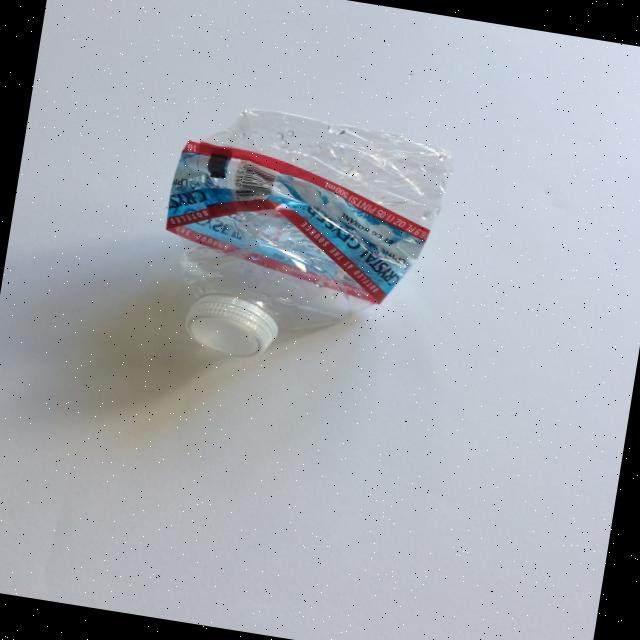plastic: (145, 95, 458, 385)
